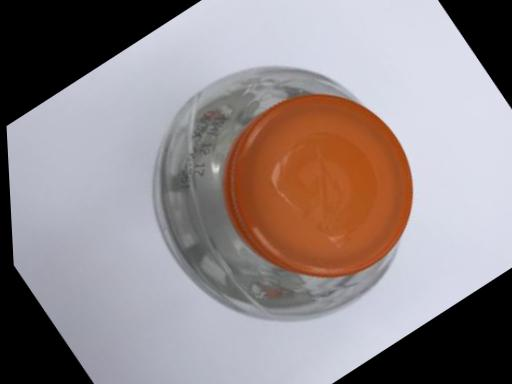plastic: (9, 0, 454, 383)
